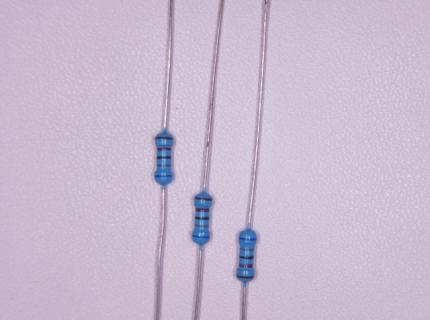Black band: (239, 255, 254, 260), (157, 156, 172, 159), (195, 217, 209, 220)
Blue band: (192, 234, 209, 239), (239, 237, 257, 241), (154, 175, 173, 178)
Brown band: (194, 196, 213, 201), (155, 136, 173, 140), (236, 275, 254, 279)
Grey band: (239, 248, 254, 252), (195, 224, 209, 228), (157, 164, 171, 167)
Red band: (238, 263, 253, 268), (157, 147, 171, 152), (195, 208, 209, 213)
